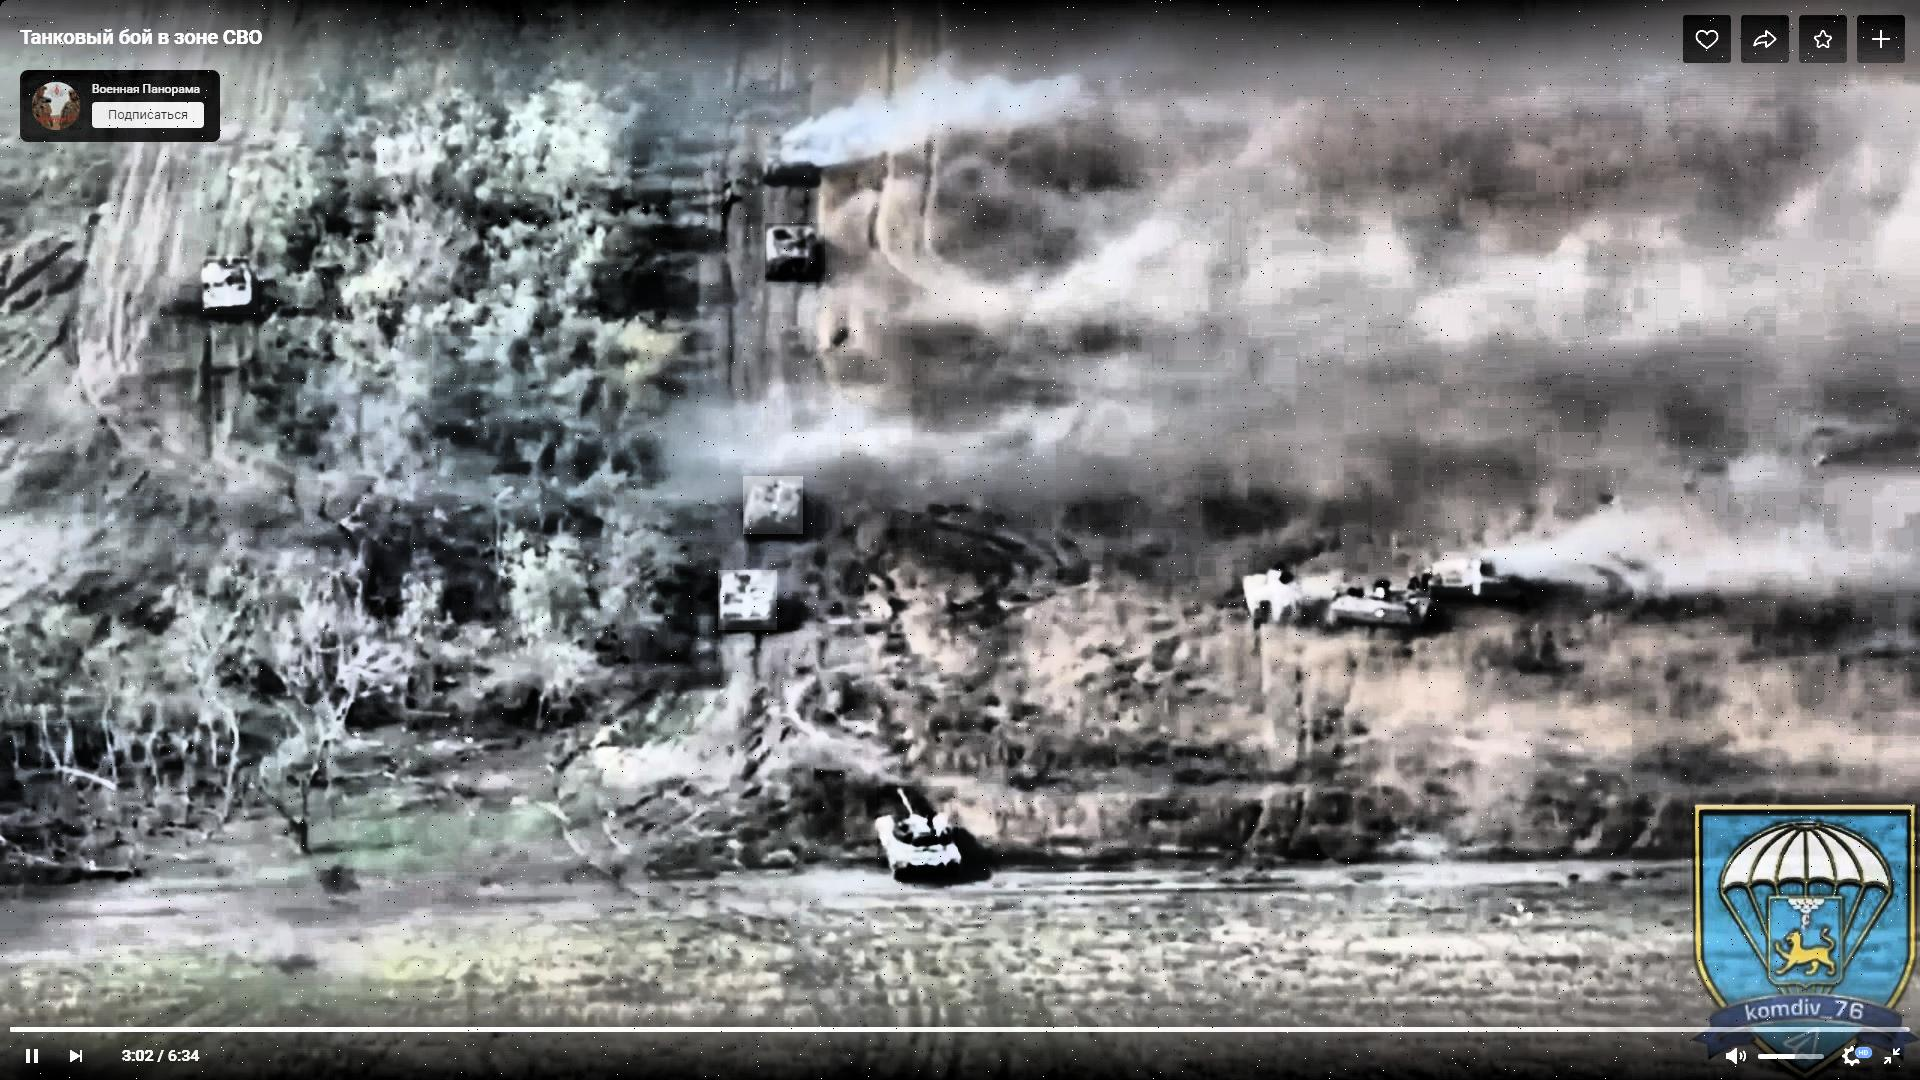military-vehicle: (877, 787, 959, 877), (765, 223, 825, 282), (719, 570, 777, 630), (744, 477, 803, 535), (202, 257, 258, 315)
